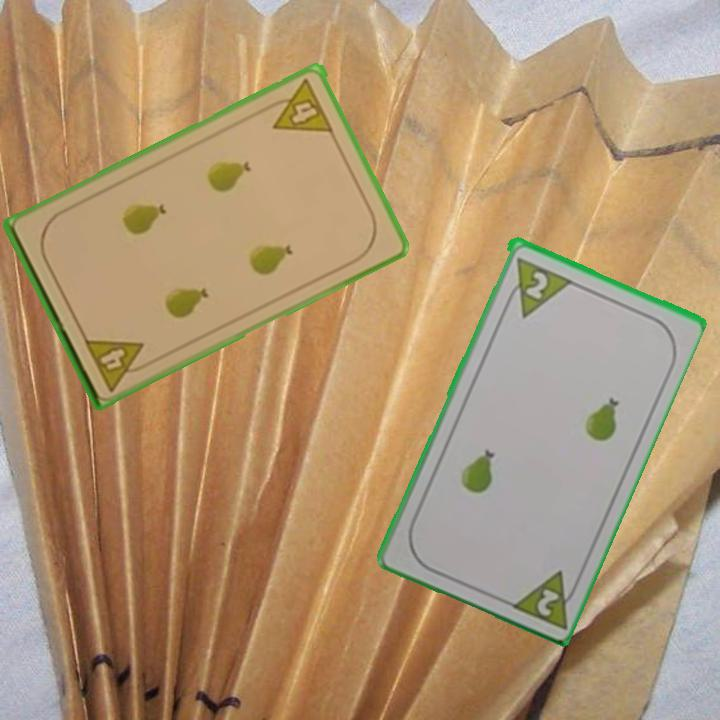2p: (505, 565, 583, 632), (499, 253, 572, 320)
4p: (261, 75, 336, 136), (80, 334, 154, 395)
